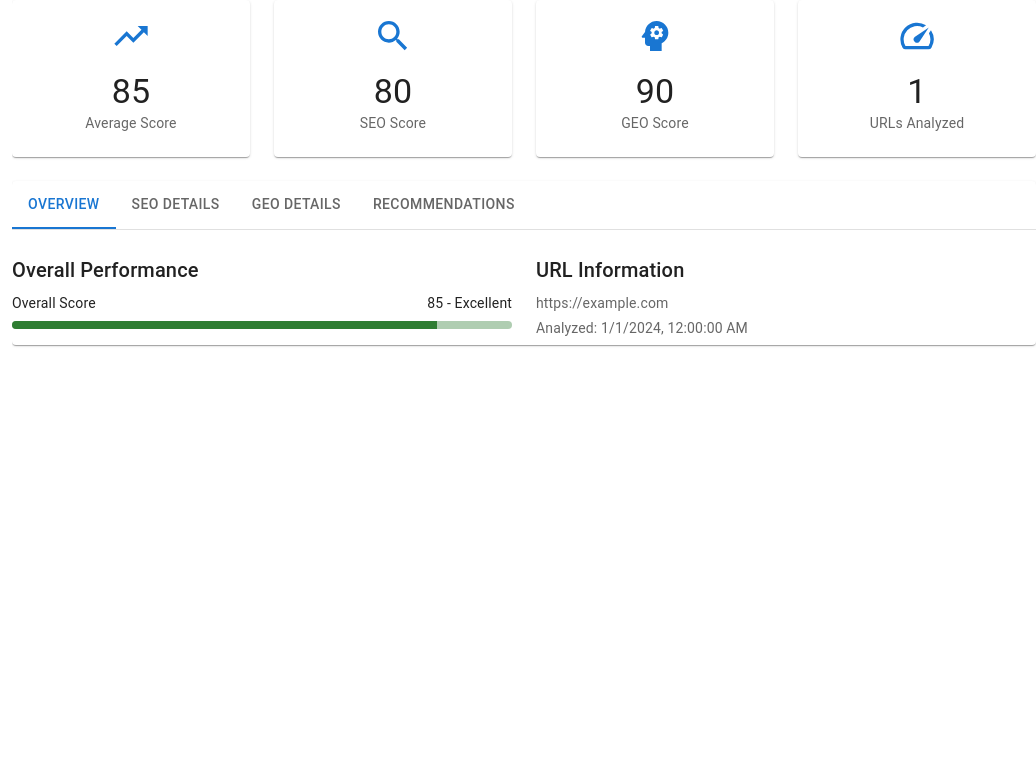
Scenario: ResultsDashboard Component › expands recommendation accordion to show details
This screenshot has width=1036, height=768.
// Go to recommendations tab
Click the tab "Recommendations".
click(444, 205)  # box [357, 181, 531, 229]
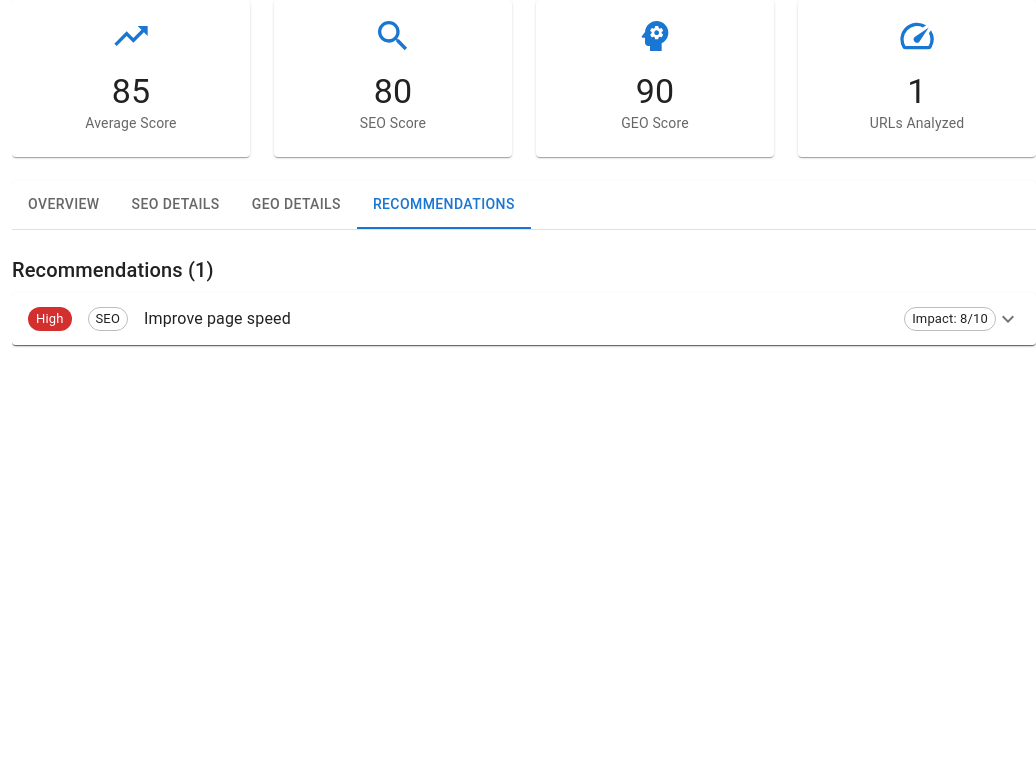
// Click on recommendation to expand
Click the heading "Improve page speed".
click(217, 318)  # box [144, 309, 291, 328]
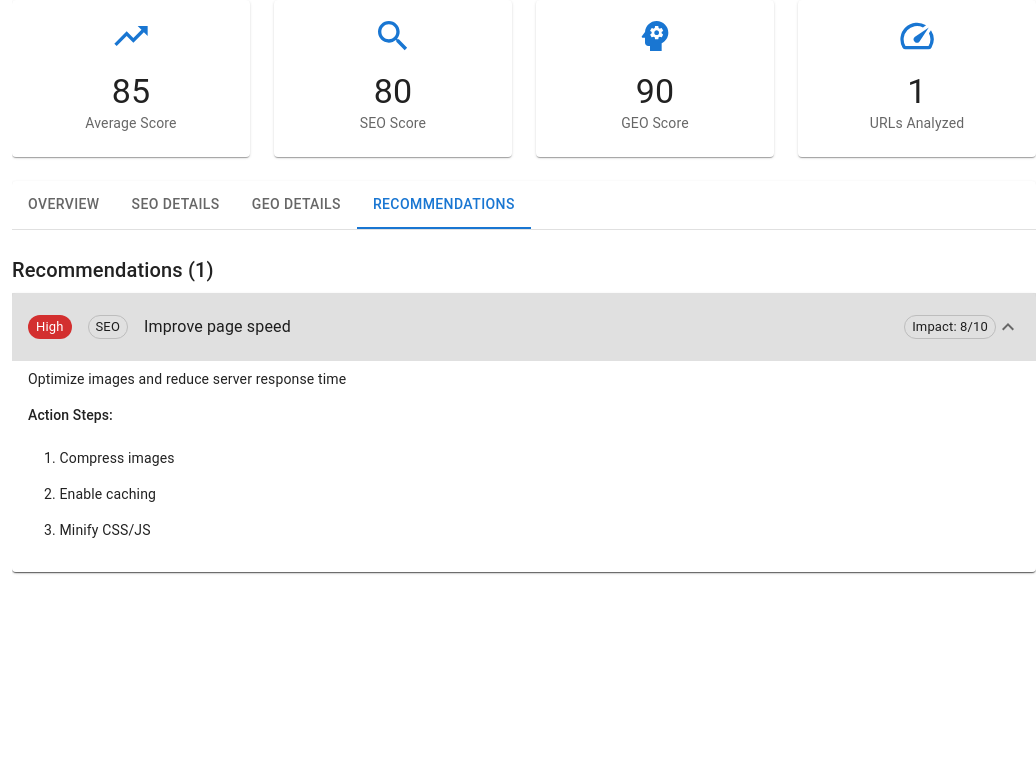
expect the text "Optimize images and reduce server response time" is shown: met, box [28, 371, 346, 387]
expect the heading "Action Steps:" is shown: met, box [28, 407, 113, 423]
expect the text "1. Compress images" is shown: met, box [44, 450, 175, 466]
